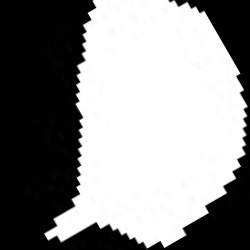spot: (47, 2, 248, 248)
